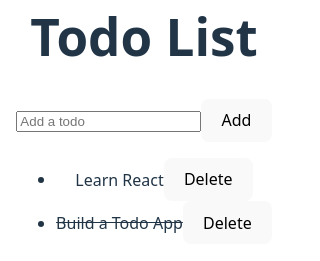
Test: TodoList Component › deletes a todo
Step 1. Click the button "Delete" next to "Build a Todo App" → (227, 223), box [183, 201, 272, 244]
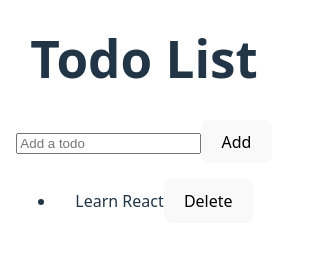
expect the list item "Build a Todo App" is gone: met
